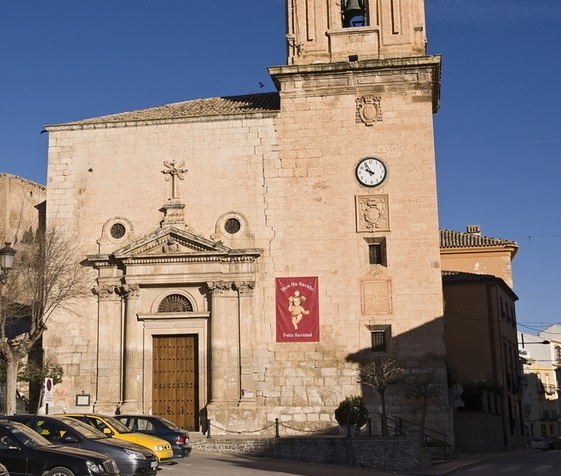fronton: (110, 225, 232, 260)
ojo-de-buey: (105, 216, 131, 241), (219, 212, 244, 235)
vano-adintelado: (142, 317, 204, 433)
